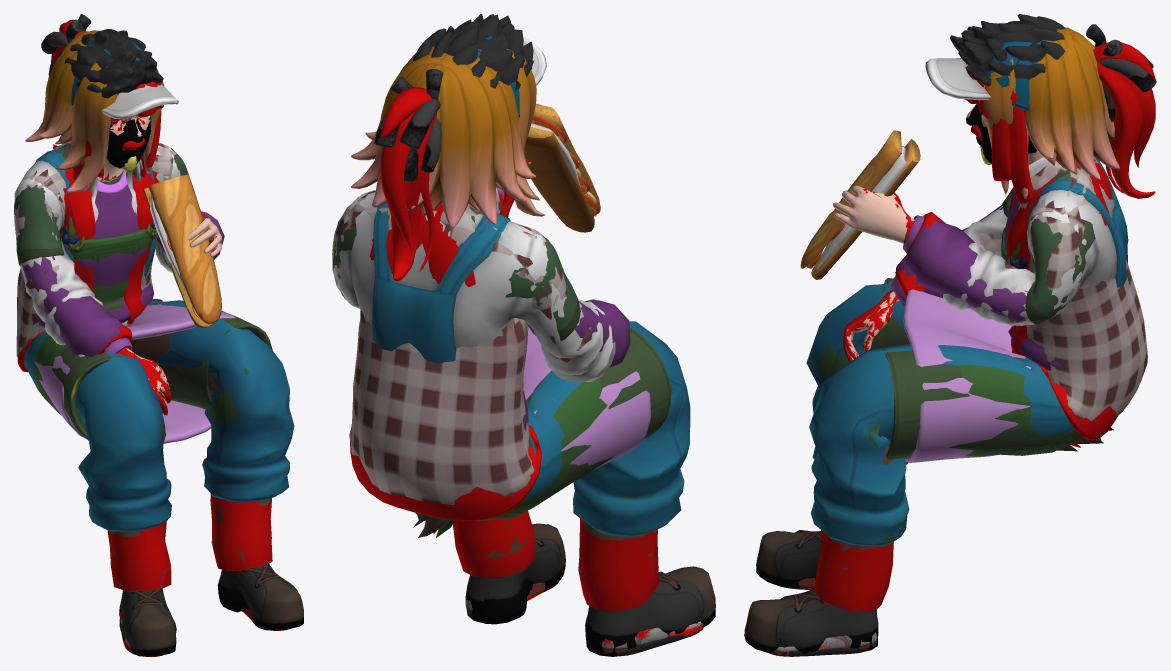
File: char sit deneme.fbx
3 renders of one model, left to right at view 1: azimuth 30°, elevation 25°; view 2: azimuth 150°, elevation 25°; view 3: azimuth 270°, elevation 25°, orthographic. The views are drawn at different scales.
Visible parts, largest first — view 1: char6, char7, char5, char3, char2, char4, ekmek2_ust, char1; view 2: char6, char2, char7, char5, char3, char4, char1, ekmek2_ust; view 3: char6, char7, char2, char5, char3, char4, char1, ekmek2_ust.
Part boxes in pixels (left/top/right/bottom): char6: left=14, top=40, right=294, bottom=531; char7: left=22, top=30, right=283, bottom=656; char5: left=14, top=14, right=303, bottom=656; char3: left=17, top=115, right=272, bottom=638; char2: left=14, top=29, right=272, bottom=650; char4: left=14, top=143, right=272, bottom=440; ekmek2_ust: left=143, top=174, right=221, bottom=328; char1: left=51, top=19, right=286, bottom=656; char6: left=332, top=36, right=690, bottom=536; char2: left=332, top=14, right=704, bottom=653; char7: left=351, top=46, right=703, bottom=656; char5: left=341, top=69, right=715, bottom=656; char3: left=350, top=190, right=688, bottom=646; char4: left=333, top=206, right=671, bottom=527; char1: left=380, top=87, right=703, bottom=637; ekmek2_ust: left=524, top=103, right=600, bottom=232; char6: left=806, top=39, right=1128, bottom=545; char7: left=769, top=27, right=1119, bottom=656; char2: left=769, top=14, right=1147, bottom=656; char5: left=744, top=24, right=1156, bottom=654; char3: left=799, top=104, right=1118, bottom=649; char4: left=873, top=146, right=1117, bottom=459; char1: left=771, top=42, right=1155, bottom=656; ekmek2_ust: left=800, top=130, right=920, bottom=279.
Bounding box in the file's own units: 108 × 266 × 166.
